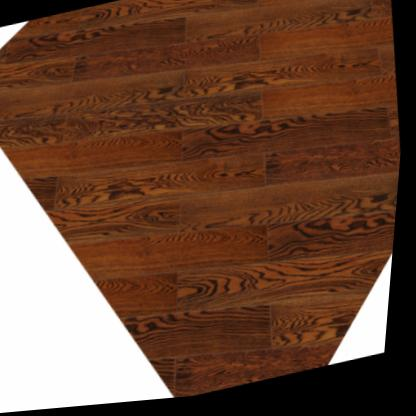Wooden floor: (0, 0, 404, 402)
